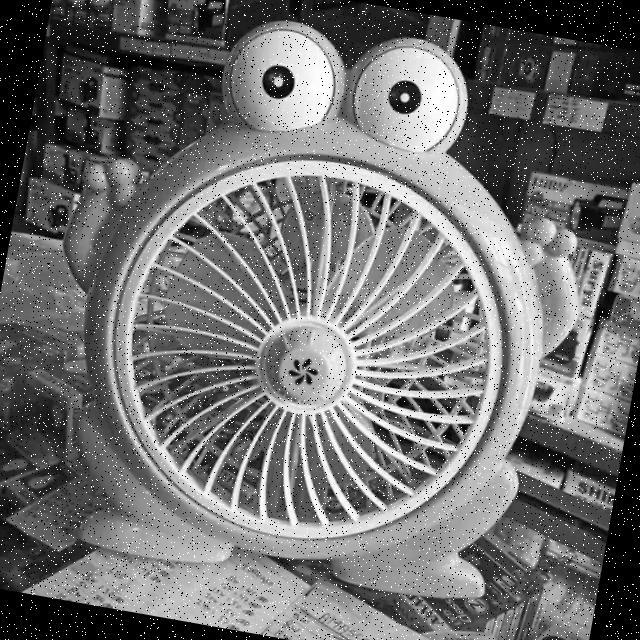fan: (6, 0, 610, 622)
